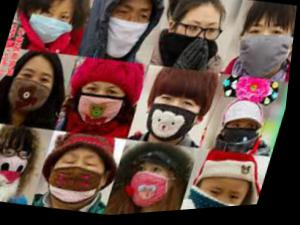OK: (47, 146, 115, 213), (93, 1, 159, 66), (230, 20, 297, 84), (146, 89, 204, 149), (75, 79, 132, 134), (130, 159, 182, 215), (7, 63, 61, 116), (25, 1, 77, 50), (1, 139, 39, 189), (224, 116, 266, 157)
WRONG: (164, 13, 225, 68), (195, 177, 257, 213)
